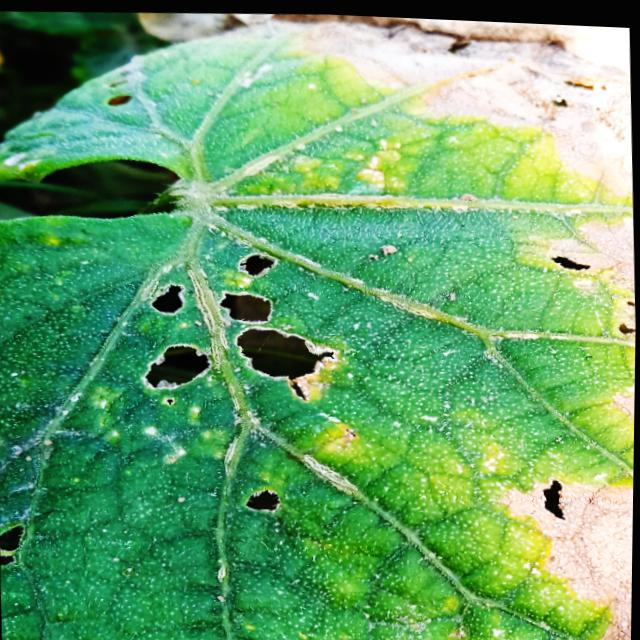Anthracnose: (132, 234, 349, 420), (532, 458, 572, 527), (237, 476, 290, 525), (0, 510, 34, 572), (545, 243, 595, 281)
